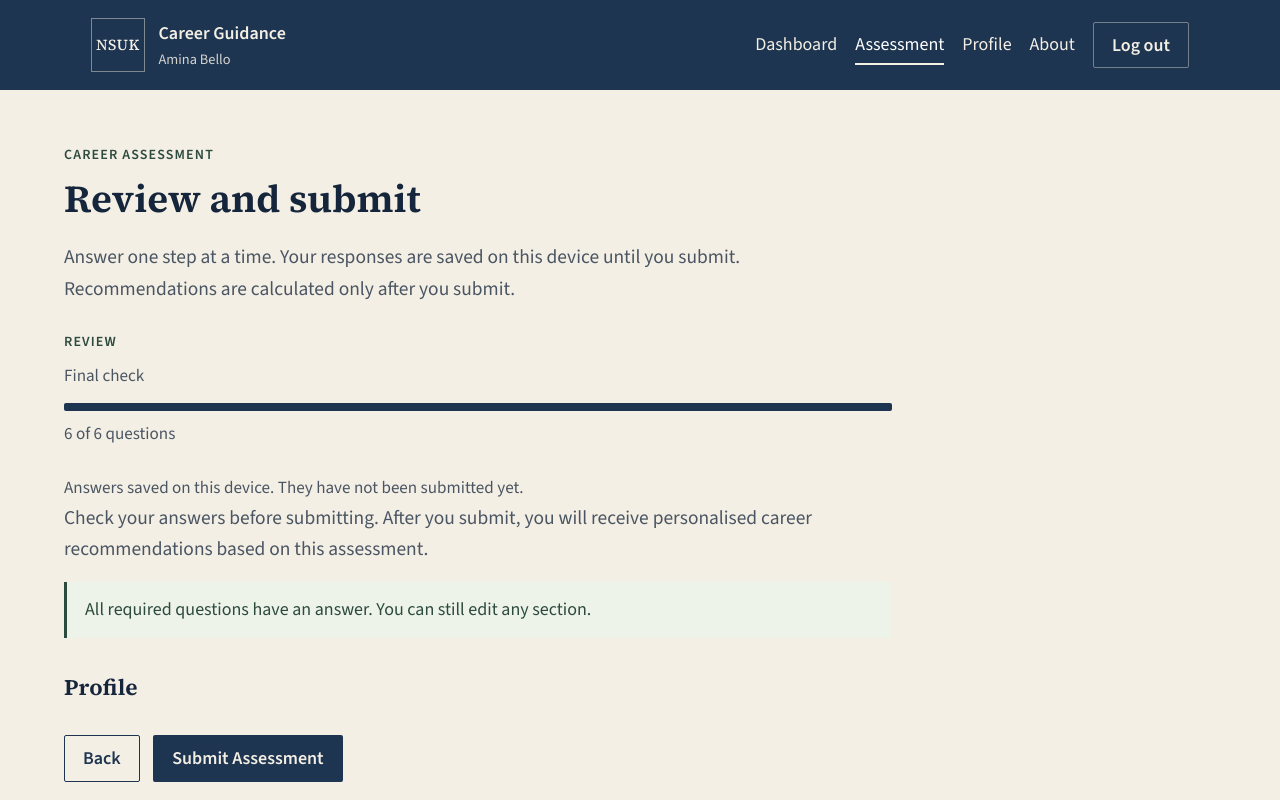
explains session expiration without dropping the draft
Click the button "Submit Assessment".
click(248, 758)  # box [153, 735, 343, 782]
(page scrolled)
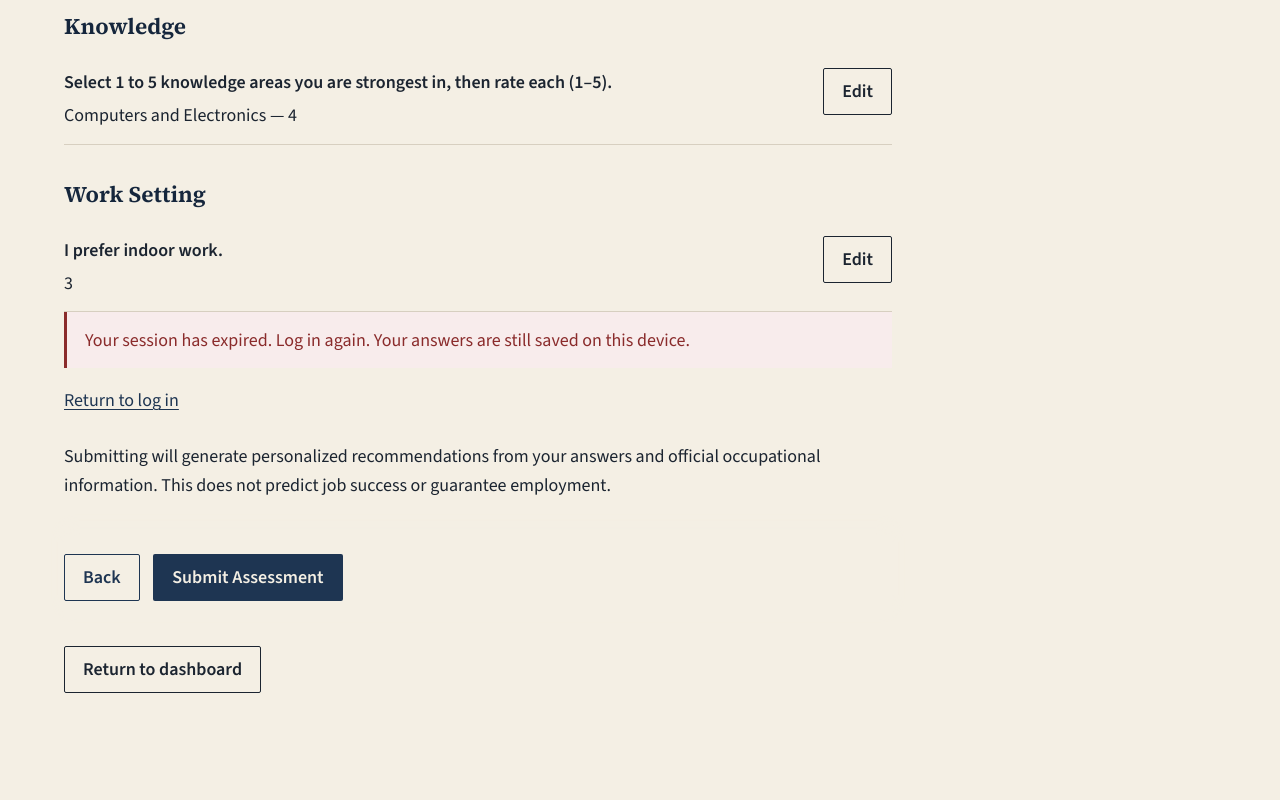
expect the message shows "Your session has expired": met, box [85, 328, 690, 352]
expect the link "Return to log in" is shown: met, box [64, 388, 179, 412]
